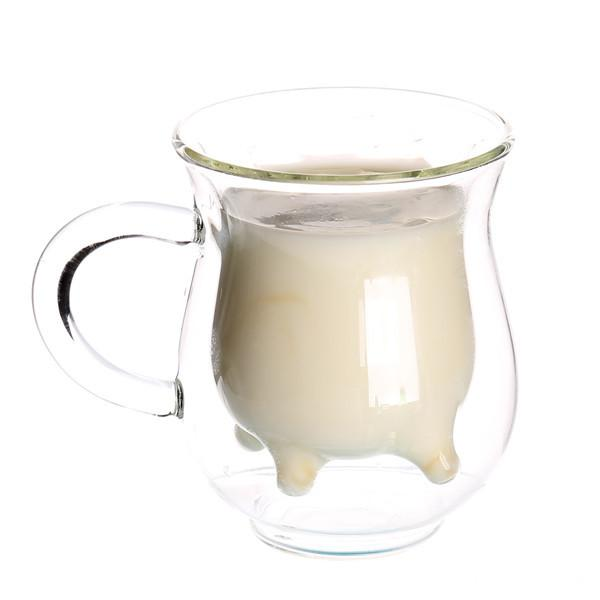produk_susu: (236, 162, 455, 524)
